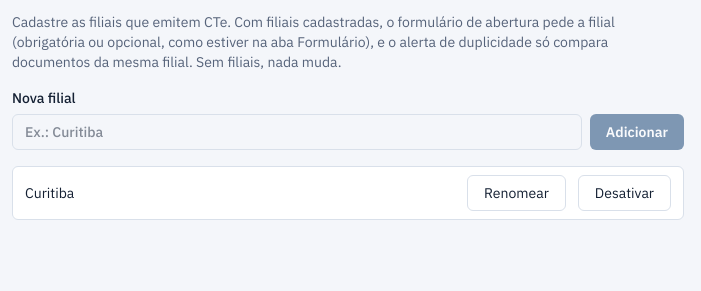
Test case: Filiais › renomeia e mostra o erro da API
Click the button "Renomear": (516, 193) [467,175,566,211]
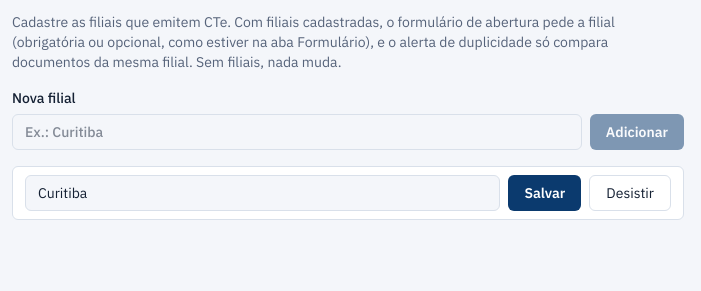
Replace the text in the field named "Nome da filial" with "Joinville": (263, 193) [25,175,500,211]
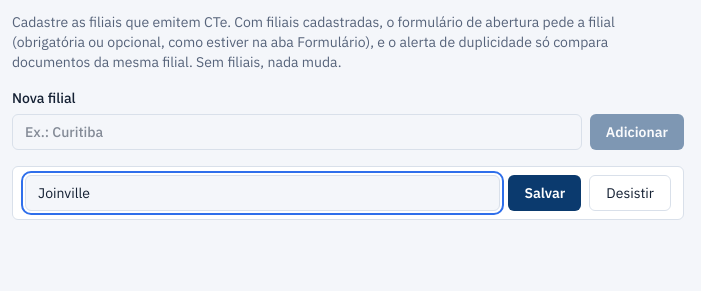
Click the button "Salvar": (545, 193) [508,175,581,211]
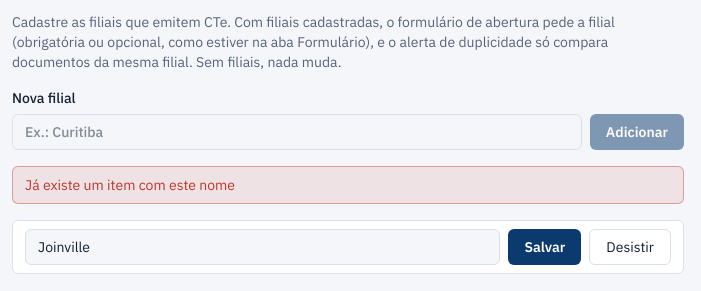
Check: the text "Já existe um item com este nome" is shown, box [12,166,684,204]
